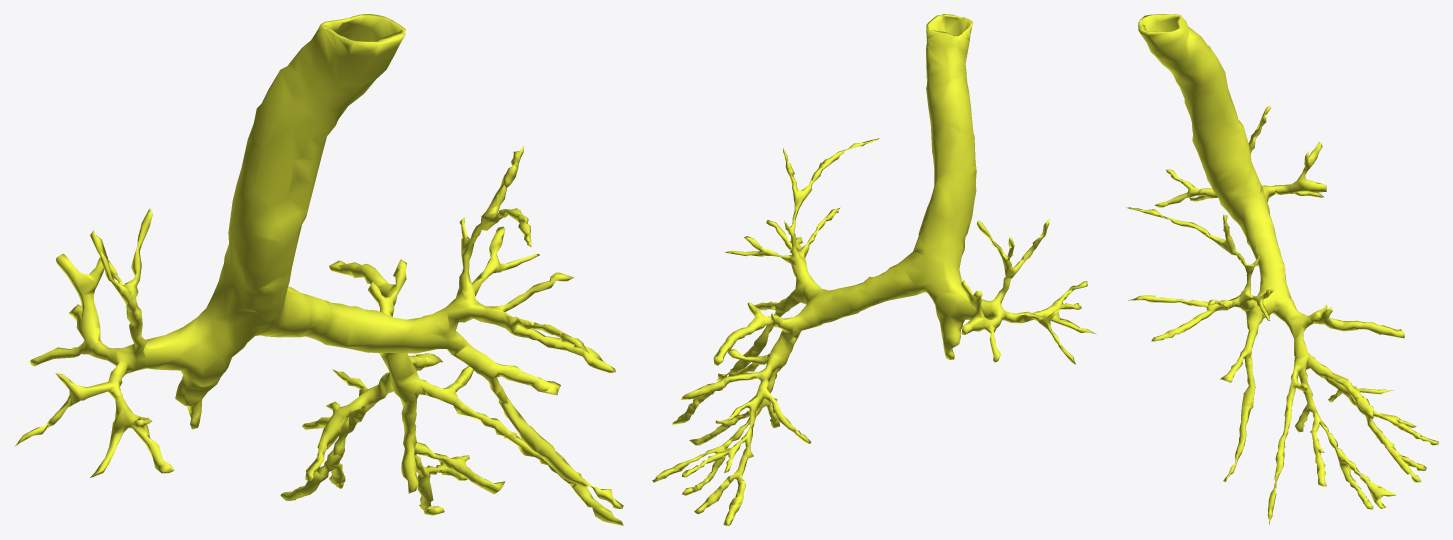
The picture shows the model from 3 angles, left to right: view 1: azimuth 30°, elevation 25°; view 2: azimuth 150°, elevation 25°; view 3: azimuth 270°, elevation 25°; orthographic projection. The views are drawn at different scales.
Parts seen in each view (by area): view 1: Polygonal_Model_11_Triangles_0; view 2: Polygonal_Model_11_Triangles_0; view 3: Polygonal_Model_11_Triangles_0.
Boxes of the visible parts, left/top/right/bottom form: Polygonal_Model_11_Triangles_0: left=14, top=14, right=623, bottom=525; Polygonal_Model_11_Triangles_0: left=652, top=14, right=1096, bottom=525; Polygonal_Model_11_Triangles_0: left=1126, top=14, right=1438, bottom=524.
Size of the model in its own units: 6.78 by 7 by 4.81.
